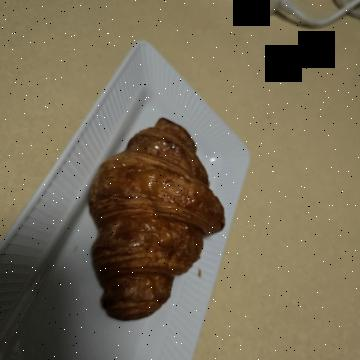croissant: (102, 131, 332, 299)
